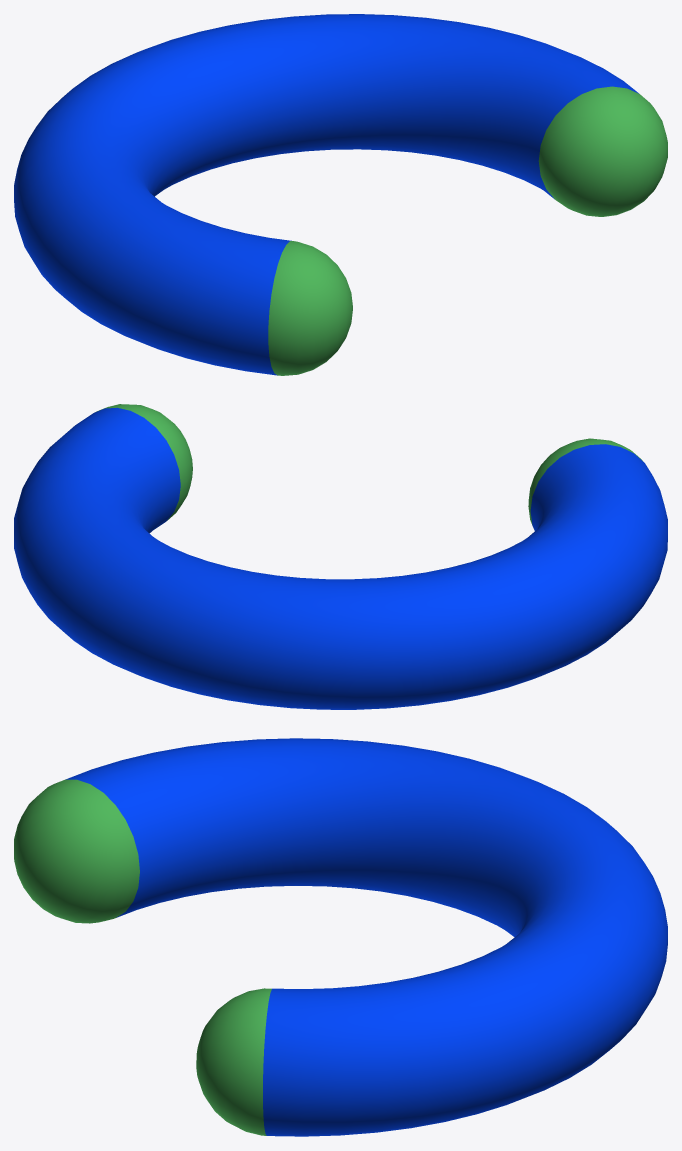
Rendered from Quiz2.glb.
3 views of the same model, one above another, from view 1: azimuth 30°, elevation 25°; view 2: azimuth 150°, elevation 25°; view 3: azimuth 270°, elevation 25° (orthographic). The views are drawn at different scales.
Visible parts, largest first — view 1: Part, Part 2; view 2: Part, Part 2; view 3: Part, Part 2.
Part boxes in pixels (x1=…): Part: x1=14, y1=14, x2=638, y2=375; Part 2: x1=268, y1=86, x2=667, y2=375; Part: x1=14, y1=407, x2=667, y2=709; Part 2: x1=96, y1=404, x2=642, y2=524; Part: x1=65, y1=738, x2=667, y2=1136; Part 2: x1=14, y1=779, x2=271, y2=1135.
Bounding box in the file's own units: 0.0634 × 0.0127 × 0.0561.
